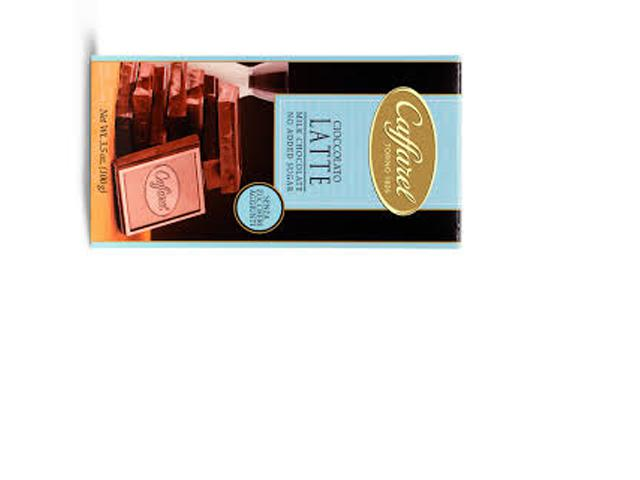chocolate: (82, 46, 464, 251)
